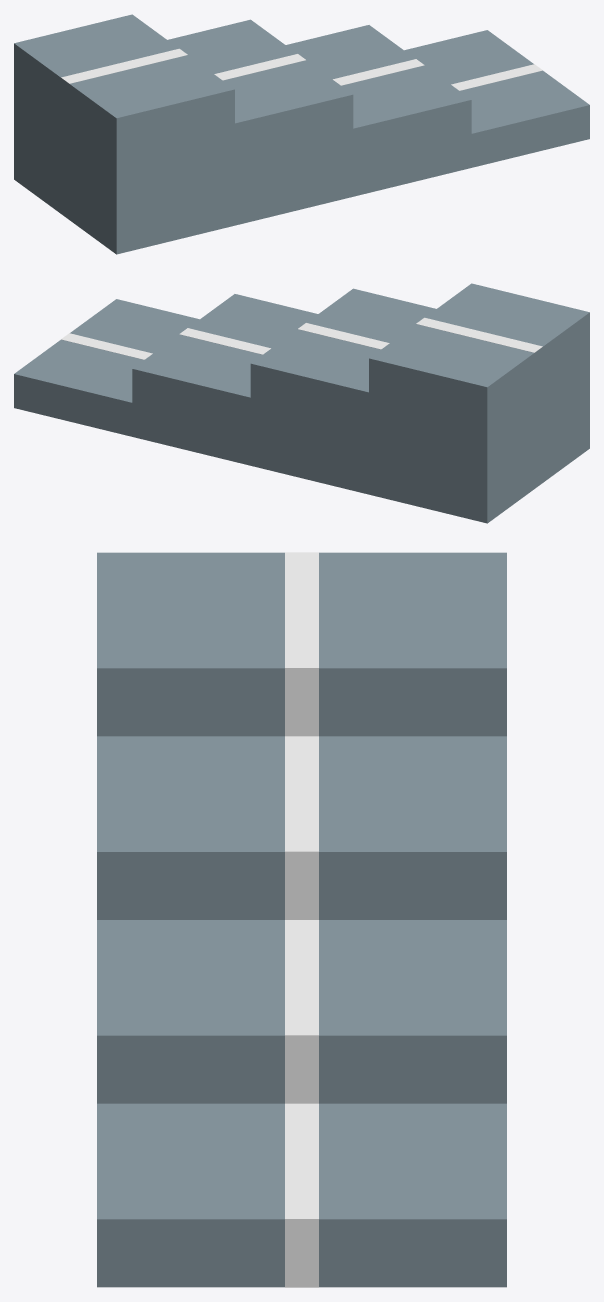
The model's file is Stairs.dae.
3 renders of one model, top to bottom at view 1: azimuth 30°, elevation 25°; view 2: azimuth 150°, elevation 25°; view 3: azimuth 270°, elevation 25°, orthographic. The views are drawn at different scales.
Parts seen in each view (by area): view 1: 667d924673643935c3f7c3ec.001; view 2: 667d924673643935c3f7c3ec.001; view 3: 667d924673643935c3f7c3ec.001.
Part boxes in pixels (x1,y1,x2,y2): 667d924673643935c3f7c3ec.001: (14,14,589,254); 667d924673643935c3f7c3ec.001: (14,283,589,523); 667d924673643935c3f7c3ec.001: (97,552,506,1287).
Bounding box in the file's own units: 1.6 × 0.6 × 0.4405.
